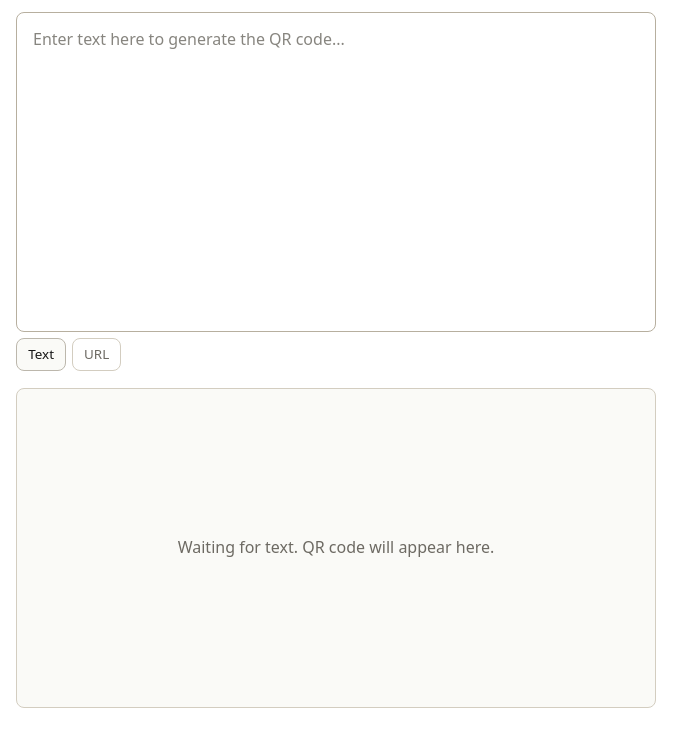
CreateView › shows an error for an invalid direct url
Click the button "URL": (97, 354) [72, 338, 121, 371]
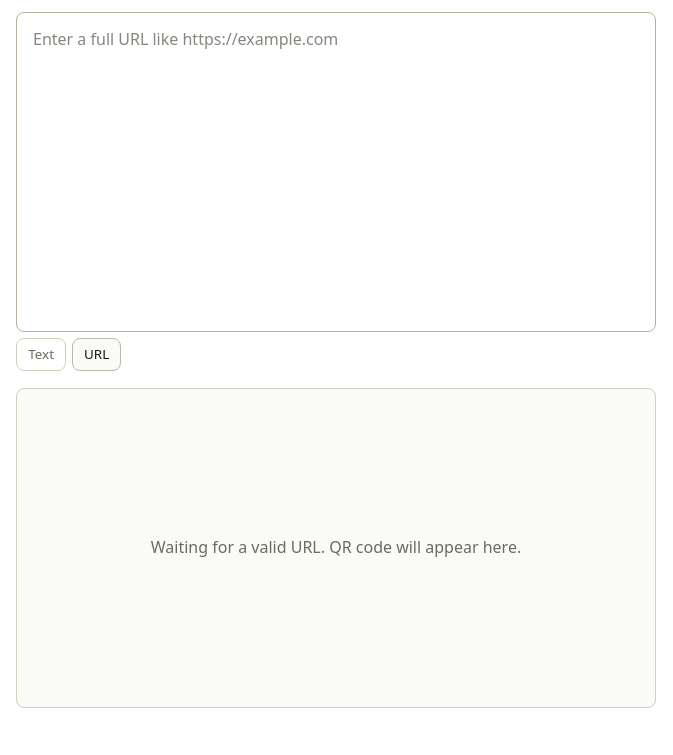
In the text box with placeholder "Enter a full URL like https://example.com": (336, 172) [16, 12, 656, 332], type "example.com without scheme"
Wait 120 ms
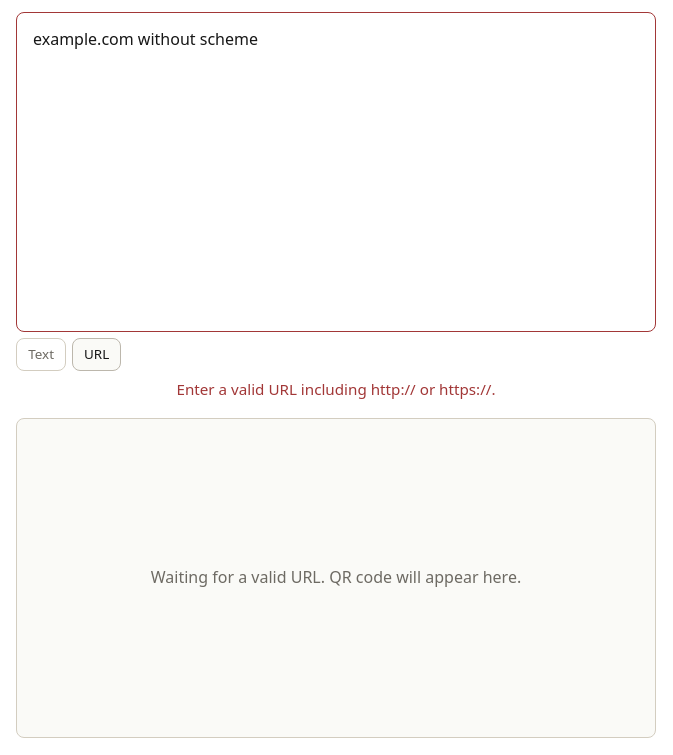
Expected: the button named "Copy link" is disabled, [16, 418, 656, 738]
Expected: the text "Enter a valid URL including http:// or https://." is shown, [176, 378, 496, 398]
